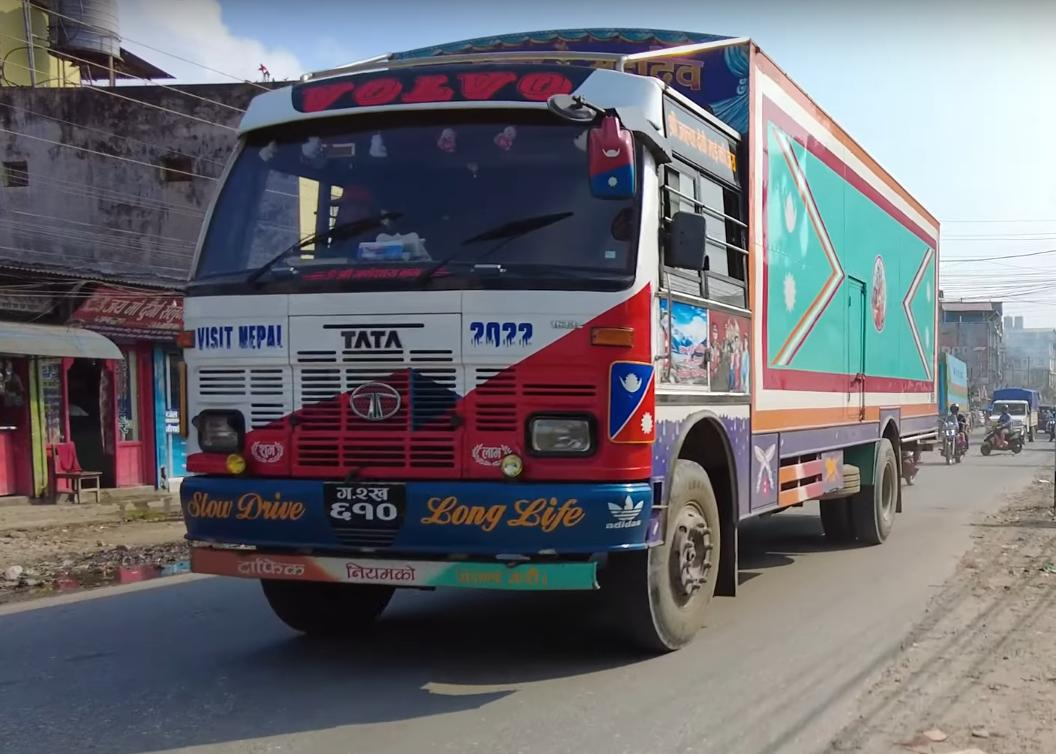bike: (940, 417, 970, 468)
scooter: (979, 421, 1024, 458)
transport_vehicle: (981, 386, 1040, 442)
truck: (175, 28, 943, 653)
